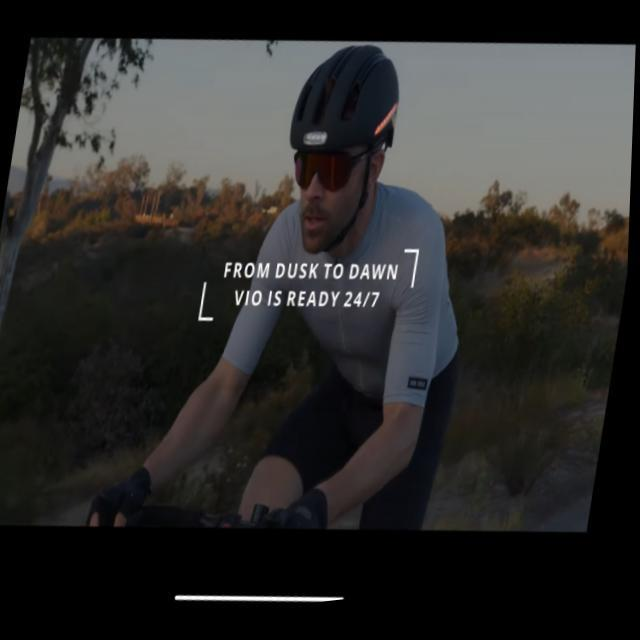Helmet: (266, 37, 421, 258)
